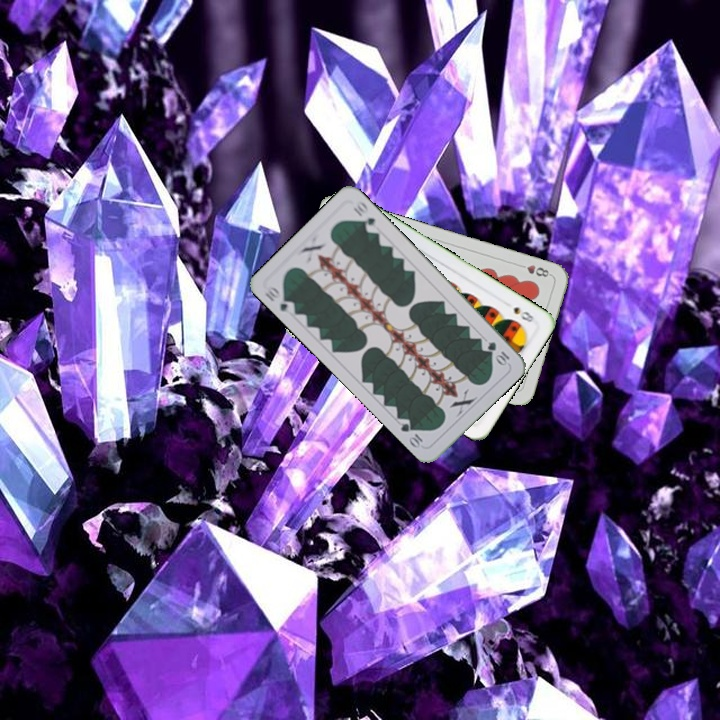G10: (260, 281, 298, 317), (483, 337, 512, 368)
H8: (514, 260, 554, 280)
S8: (509, 303, 537, 325)
